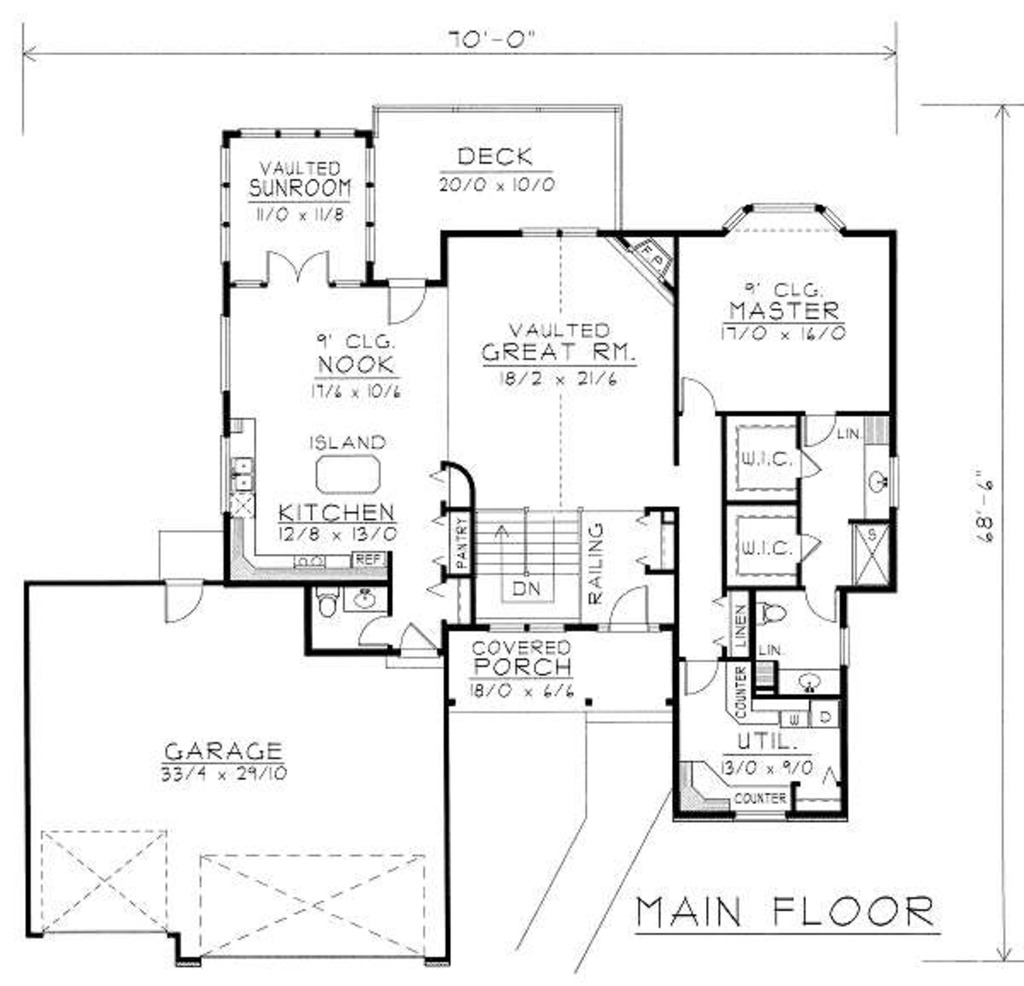door: (256, 243, 347, 288), (151, 571, 211, 635), (596, 579, 657, 641), (384, 267, 436, 328), (384, 622, 445, 670), (794, 583, 850, 628), (675, 371, 726, 420), (672, 650, 724, 697), (796, 407, 844, 453), (347, 611, 390, 646)
kitchen_bar: (305, 438, 396, 495)
large_sink: (309, 574, 342, 622), (745, 597, 793, 629)
small_sink: (763, 662, 845, 695), (859, 452, 890, 522), (336, 585, 393, 614)
stairs: (463, 498, 588, 619)
twin_sink: (221, 450, 270, 502)
window: (712, 197, 850, 231), (217, 146, 245, 264), (360, 140, 385, 271), (235, 126, 367, 144), (511, 220, 603, 244), (214, 316, 238, 398)
